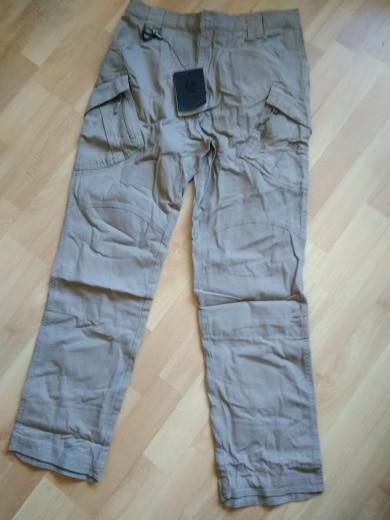pants: (13, 1, 324, 501)
